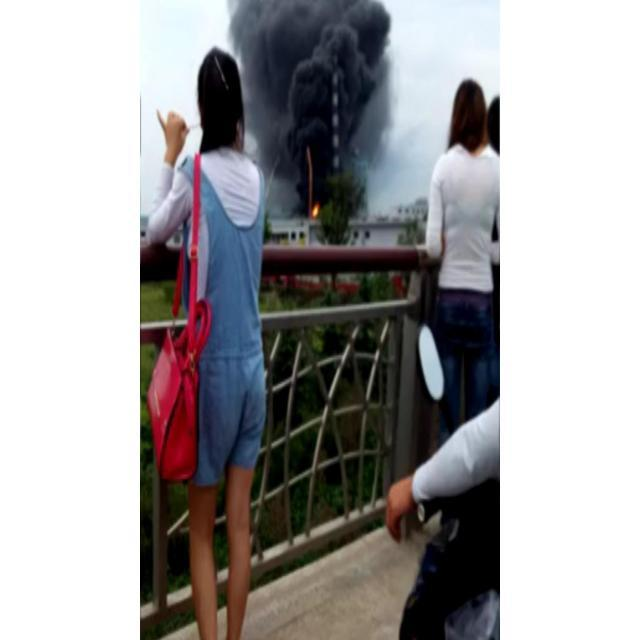Smoke: (227, 0, 396, 244)
